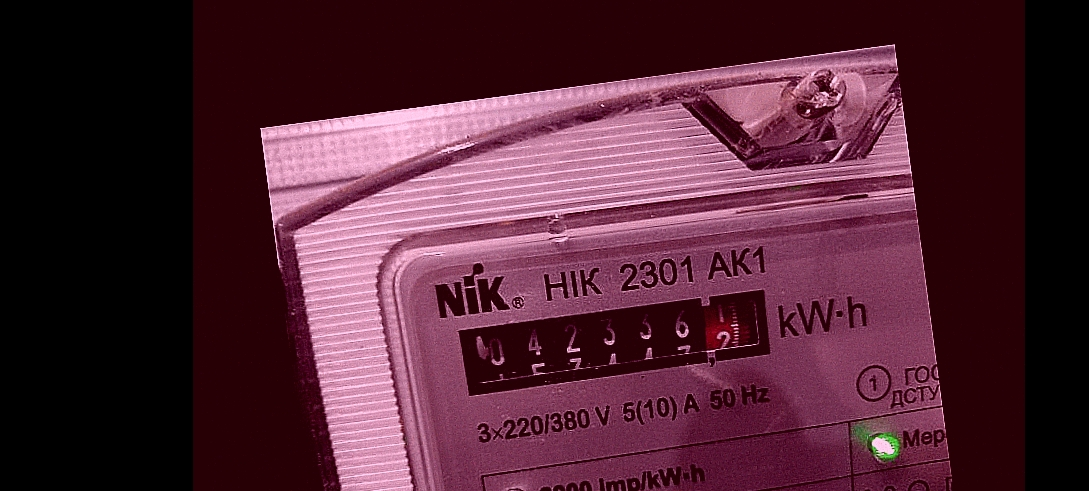0: (485, 333, 508, 368)
1: (712, 298, 727, 325)
2: (560, 319, 585, 355), (713, 328, 733, 351)
3: (596, 313, 618, 347), (635, 308, 656, 342)
4: (524, 324, 545, 358)
6: (670, 305, 694, 341)
screen: (444, 273, 788, 408)
